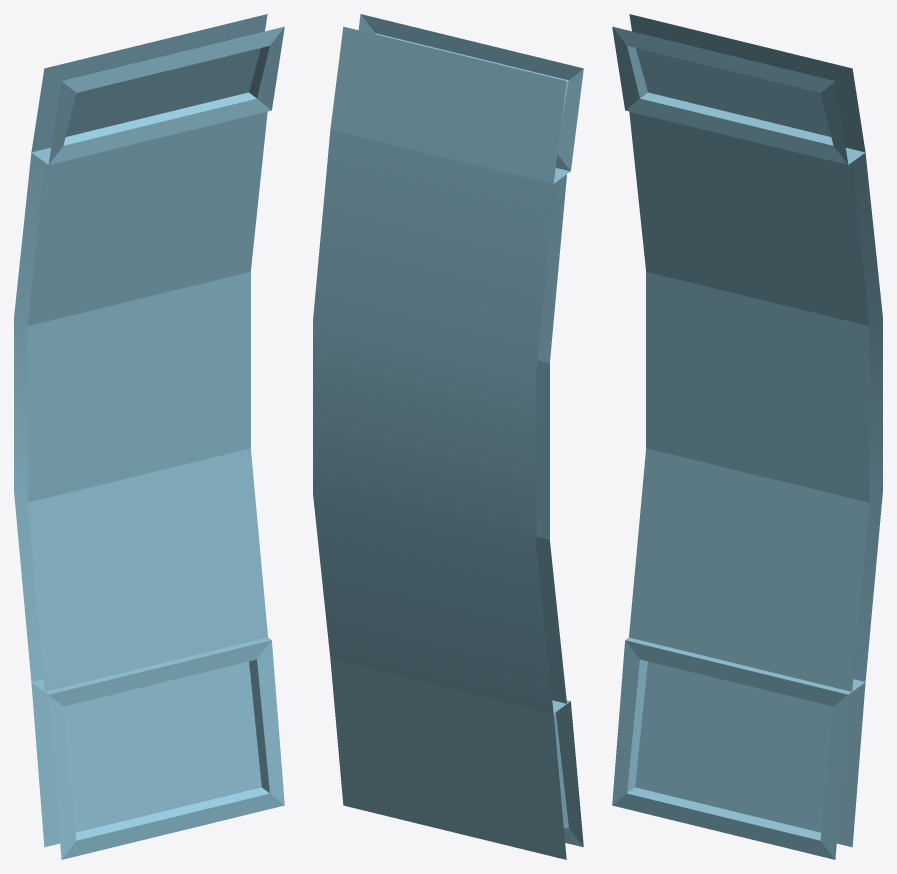
Rendered from sidewallGlassHalf.FBX.
3 views of the same model, side by side, from view 1: azimuth 30°, elevation 25°; view 2: azimuth 150°, elevation 25°; view 3: azimuth 330°, elevation 25° (orthographic).
Visible parts, largest first — view 1: sidewallGlassPanelFull001, sidewallGlassFull001; view 2: sidewallGlassPanelFull001, sidewallGlassFull001; view 3: sidewallGlassPanelFull001, sidewallGlassFull001.
Boxes of the visible parts, bbox=[...] form: sidewallGlassPanelFull001: bbox=[14, 111, 267, 691]; sidewallGlassFull001: bbox=[31, 14, 284, 859]; sidewallGlassPanelFull001: bbox=[313, 129, 566, 713]; sidewallGlassFull001: bbox=[330, 14, 583, 859]; sidewallGlassPanelFull001: bbox=[629, 111, 882, 691]; sidewallGlassFull001: bbox=[612, 14, 865, 859].
Size of the model in its own units: 0.75 by 2.5 by 0.2757.
